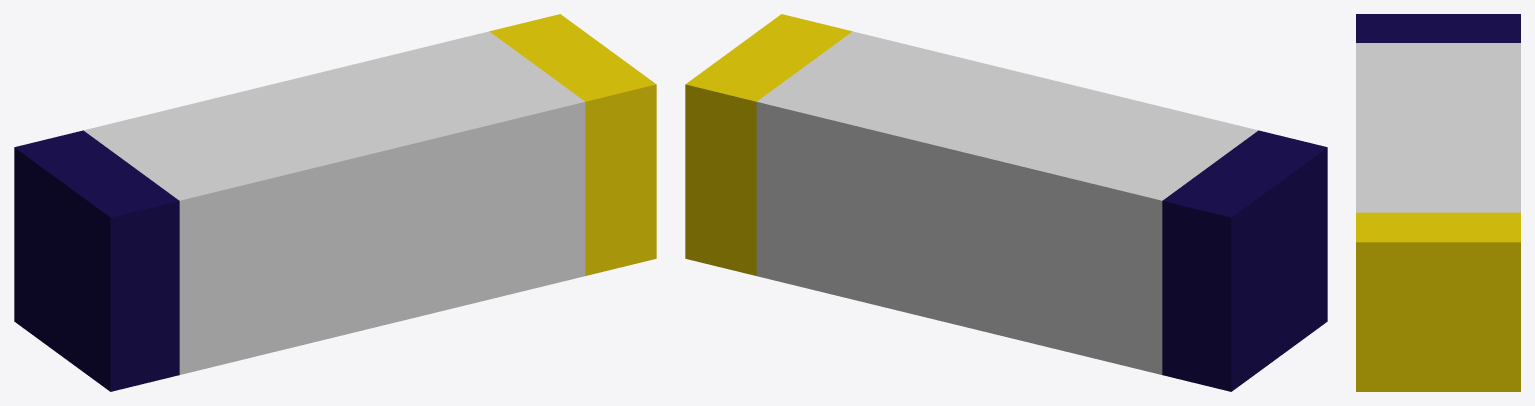
File: beezone.fbx
3 renders of one model, left to right at view 1: azimuth 30°, elevation 25°; view 2: azimuth 150°, elevation 25°; view 3: azimuth 270°, elevation 25°, orthographic. The views are drawn at different scales.
Parts seen in each view (by area): view 1: Cube; view 2: Cube; view 3: Cube.
Boxes of the visible parts, x1=… form: Cube: x1=14, y1=14, x2=656, y2=391; Cube: x1=685, y1=14, x2=1327, y2=391; Cube: x1=1356, y1=14, x2=1520, y2=391.
Size of the model in its own units: 2404 by 734 by 734.
